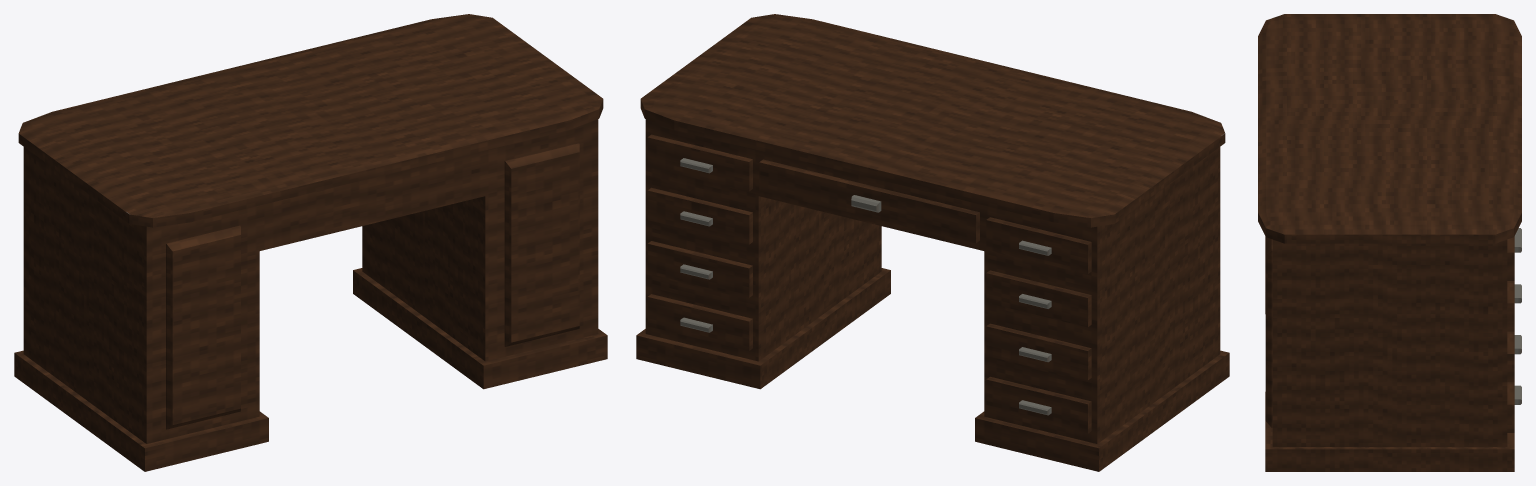
The model's file is SM_SaveDesk_Wood.fbx.
3 renders of one model, left to right at view 1: azimuth 30°, elevation 25°; view 2: azimuth 150°, elevation 25°; view 3: azimuth 270°, elevation 25°, orthographic. The views are drawn at different scales.
Visible parts, largest first — view 1: SM_SaveDesk_Wood; view 2: SM_SaveDesk_Wood; view 3: SM_SaveDesk_Wood.
Boxes of the visible parts, x1,y1,x2,y2 form: SM_SaveDesk_Wood: (14,14,607,471); SM_SaveDesk_Wood: (636,14,1229,471); SM_SaveDesk_Wood: (1258,14,1521,471).
Bounding box in the file's own units: 1.47 × 0.75 × 0.74.
1 material, 1 textured.
